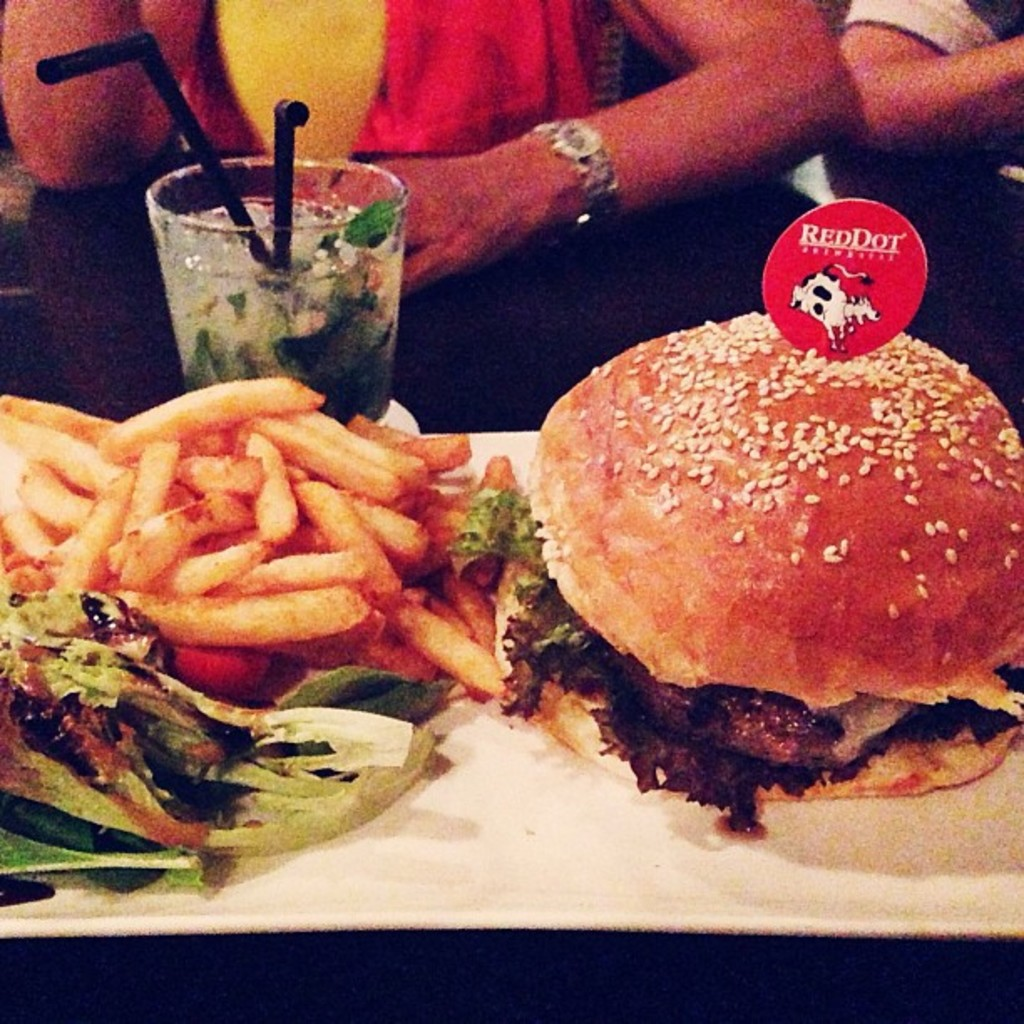Hamburger: (456, 312, 1022, 829)
